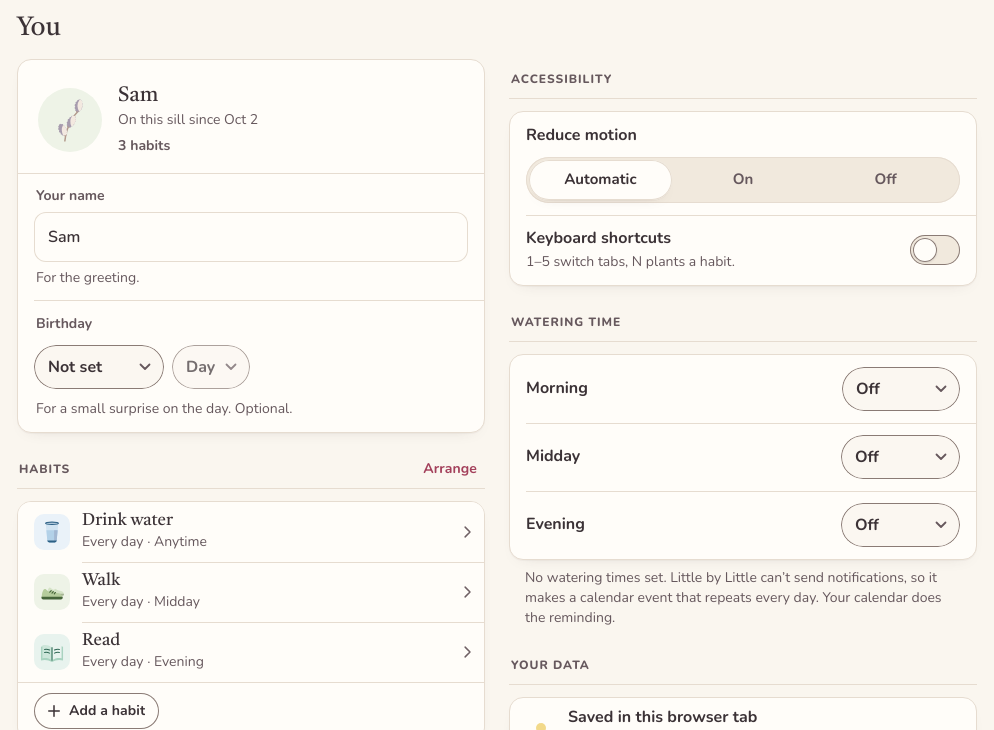
Test case: You (DESIGN §9.5) › turns a watering time on, and offers "Add to calendar" for it
Select "7:30 am" in the dropdown with id "you-water-morning" at (901, 389), box x1=842 y1=367 x2=960 y2=411
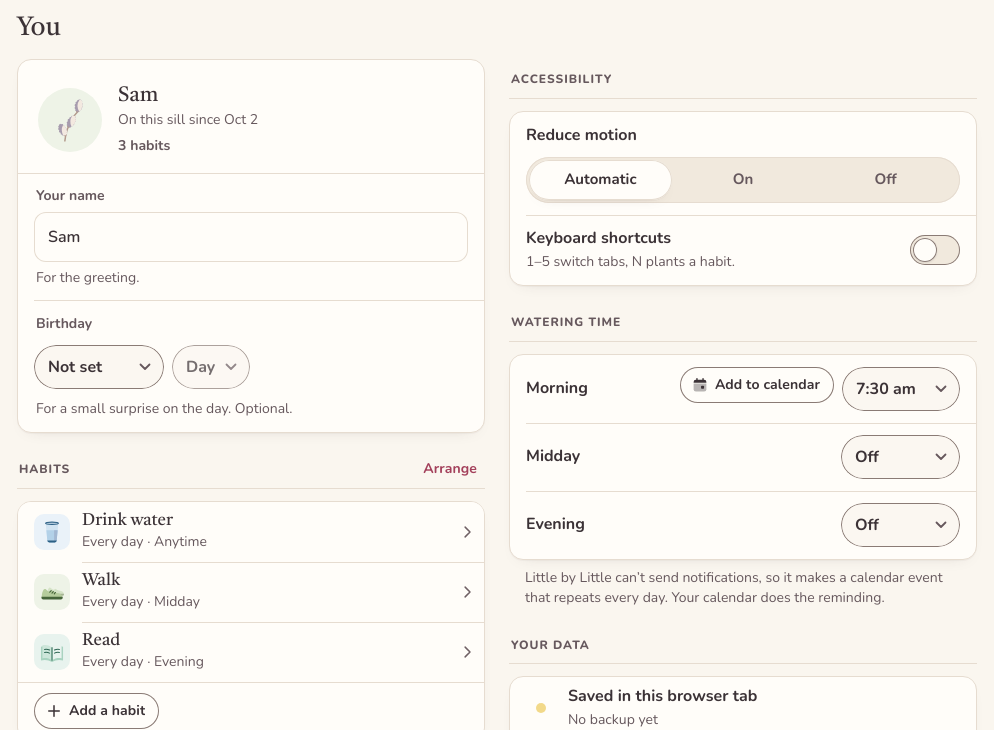
Result: the button "Add to calendar" is shown at x1=680 y1=367 x2=834 y2=403
